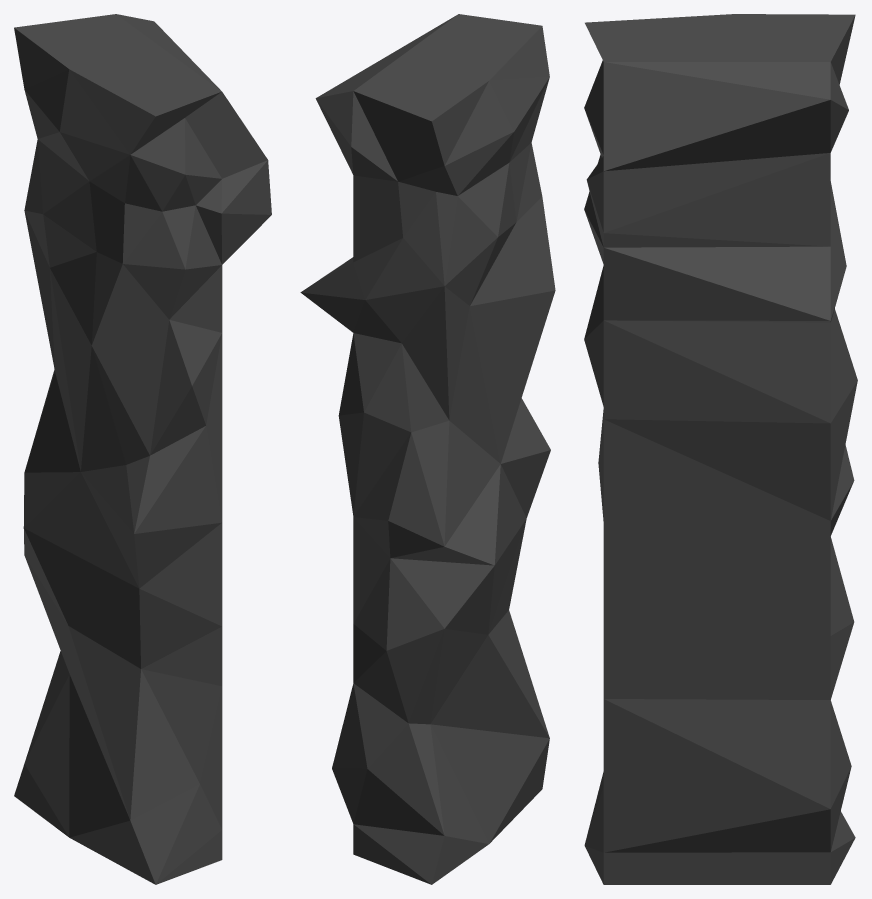
The model's file is Wall_Stone_Edge.fbx.
3 views of the same model, side by side, from view 1: azimuth 30°, elevation 25°; view 2: azimuth 150°, elevation 25°; view 3: azimuth 270°, elevation 25° (orthographic). The views are drawn at different scales.
Parts seen in each view (by area): view 1: Wall_Stone_Edge; view 2: Wall_Stone_Edge; view 3: Wall_Stone_Edge.
Boxes of the visible parts, x1,y1,x2,y2 form: Wall_Stone_Edge: (14, 14, 271, 884); Wall_Stone_Edge: (300, 14, 555, 884); Wall_Stone_Edge: (584, 14, 857, 884).
Size of the model in its own units: 186 by 800 by 241.
